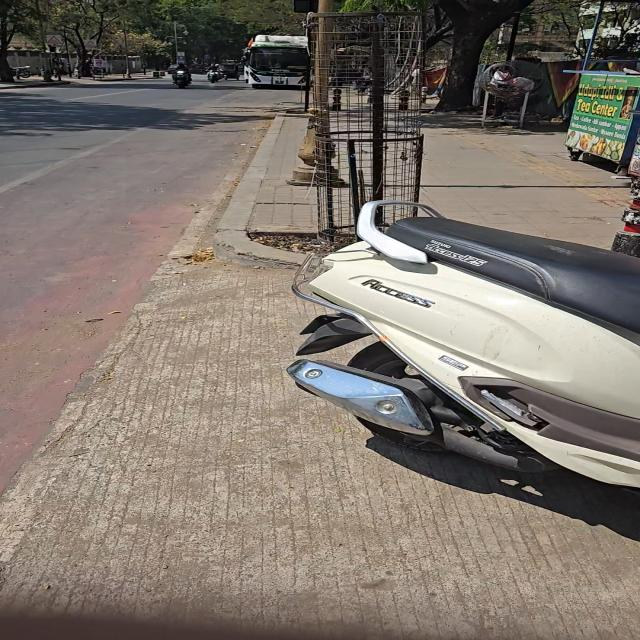obstacle: (314, 17, 335, 237), (582, 0, 605, 70), (35, 0, 51, 81), (506, 12, 520, 60), (63, 28, 72, 77), (123, 23, 130, 78), (174, 22, 178, 63)
vehicle: (288, 201, 639, 488), (174, 69, 190, 88)
